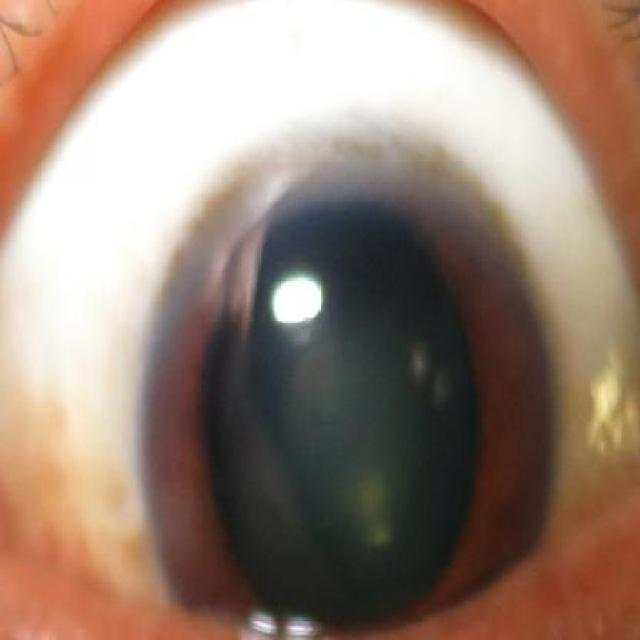Cataract: (135, 123, 554, 640)
